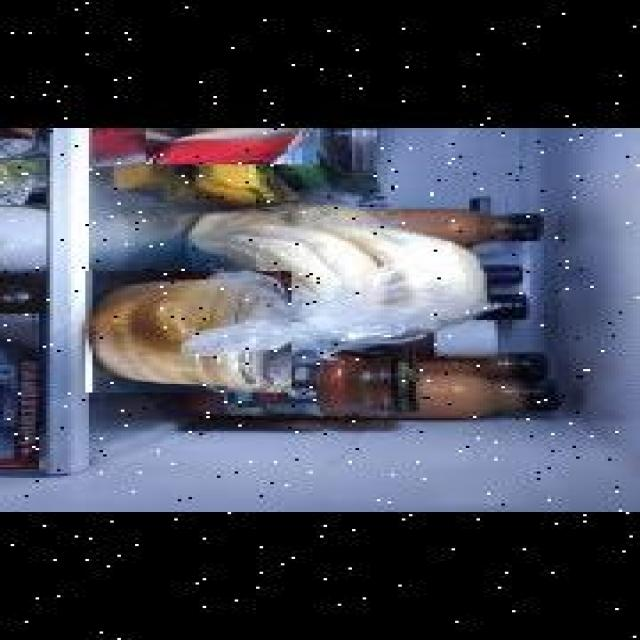asparagus: (0, 158, 89, 205)
humus: (80, 271, 286, 392)
milk: (0, 205, 100, 273)
tomato_sauce: (178, 351, 420, 419)
yogurt: (0, 313, 124, 469), (142, 128, 313, 164)
